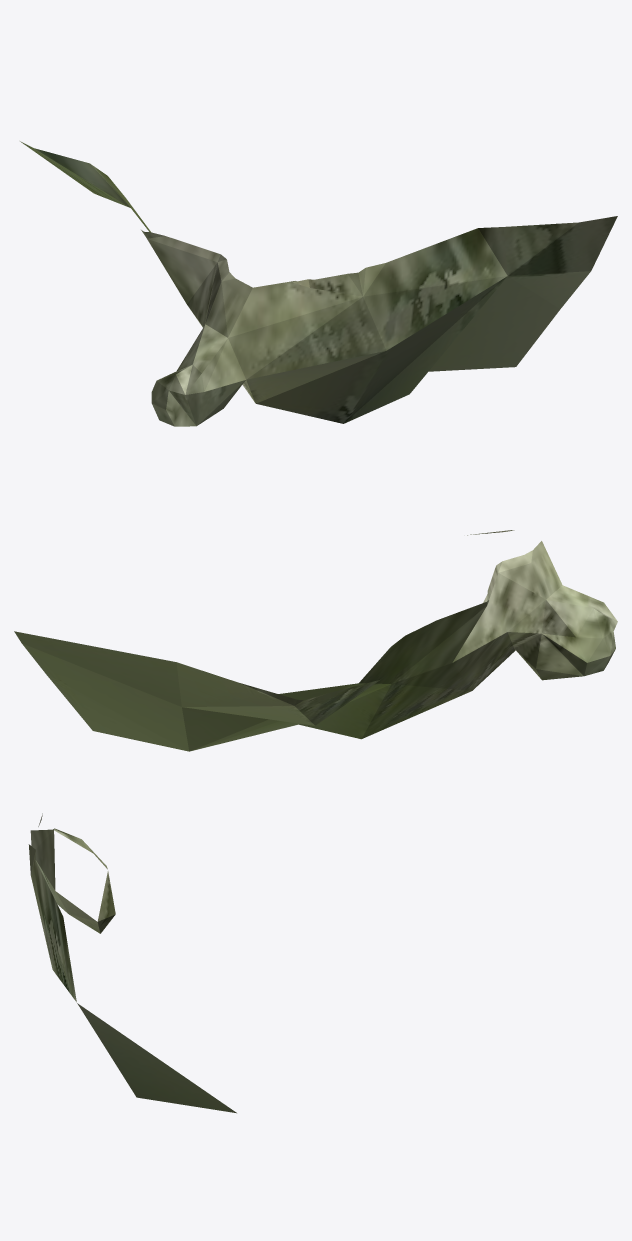
The picture shows the model from 3 angles, top to bottom: view 1: azimuth 30°, elevation 25°; view 2: azimuth 150°, elevation 25°; view 3: azimuth 270°, elevation 25°; orthographic projection. The views are drawn at different scales.
Size of the model in its own units: 1.84 by 0.9068 by 2.01.
Materials: 1 (1 with a texture image).
